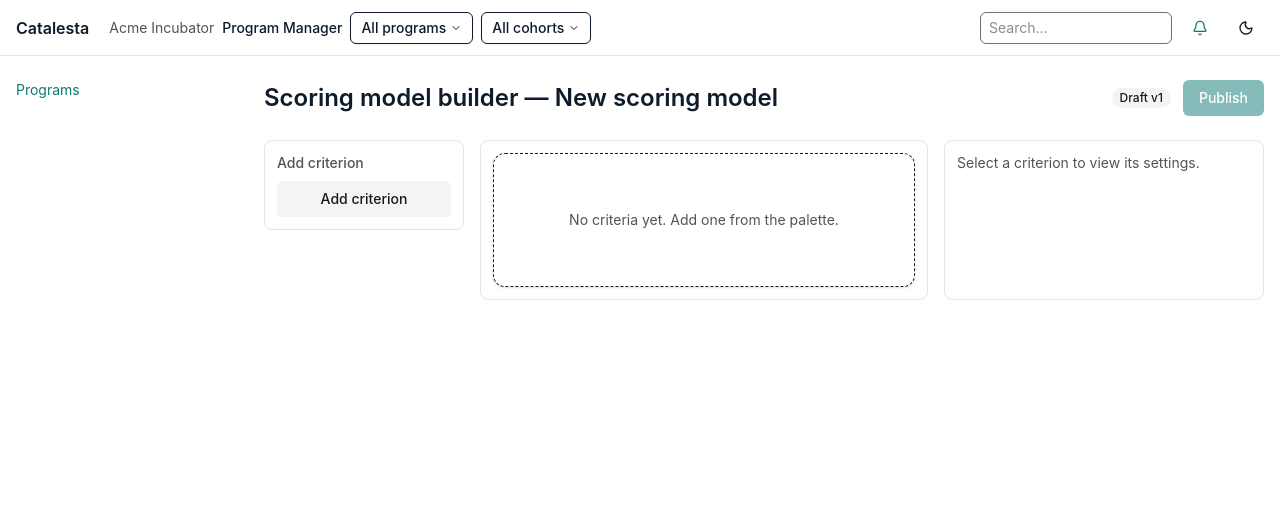
Test: removing a middle descriptor keeps remaining values correct (stable keys)
expect the element showing "No criteria yet. Add one from the palette." is shown: met, box [480,140,928,300]
Click the button "Add criterion": (364, 199) [277,181,451,217]
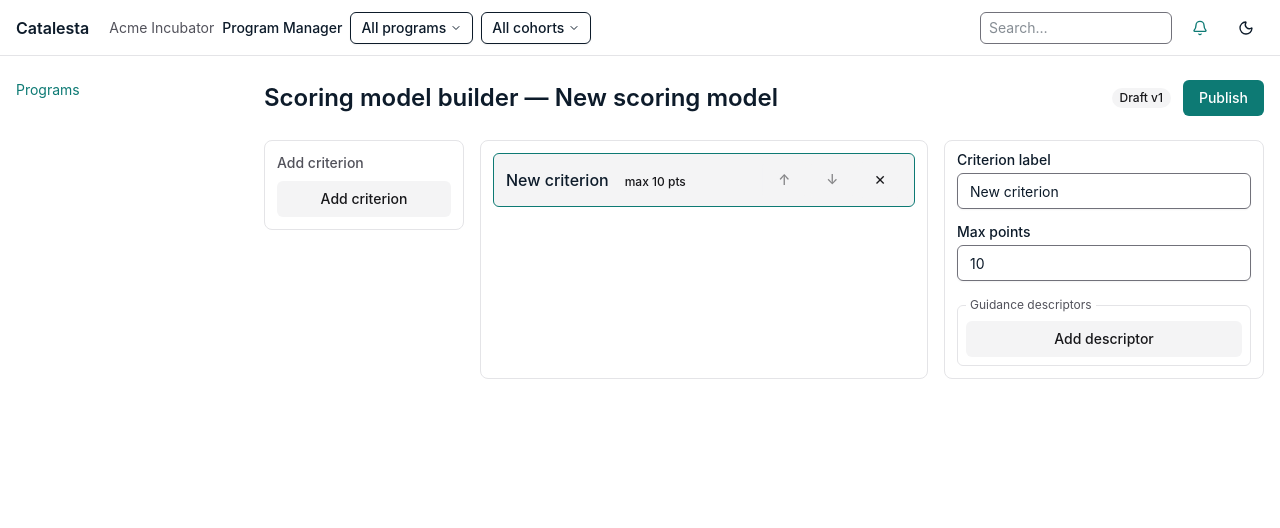
Add three descriptors
Click the button "Add descriptor": (1104, 339) [966,321,1242,357]
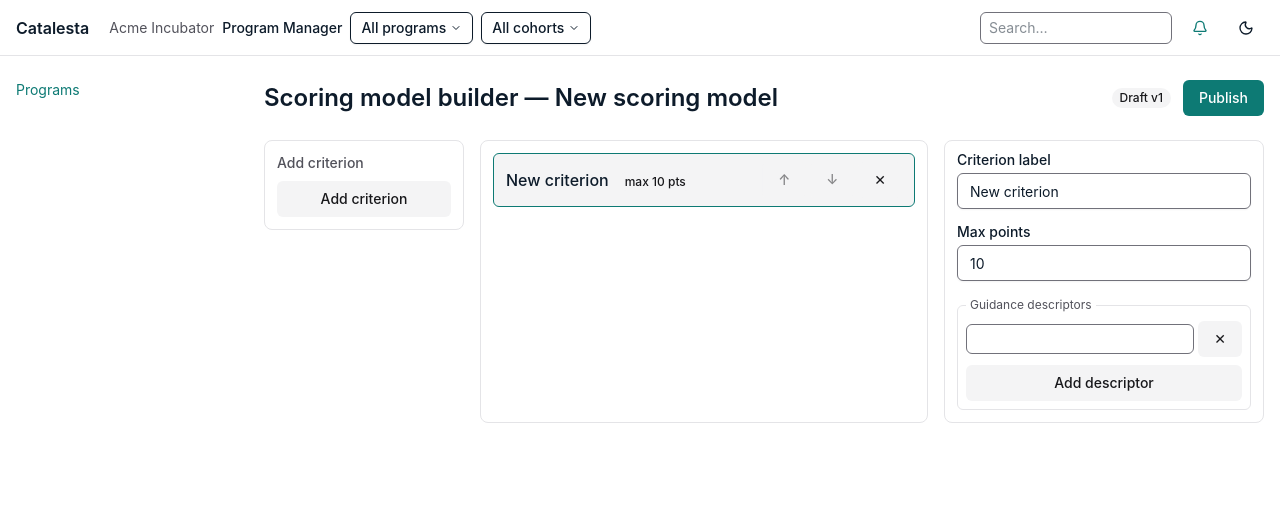
Click the button "Add descriptor": (1104, 383) [966,365,1242,401]
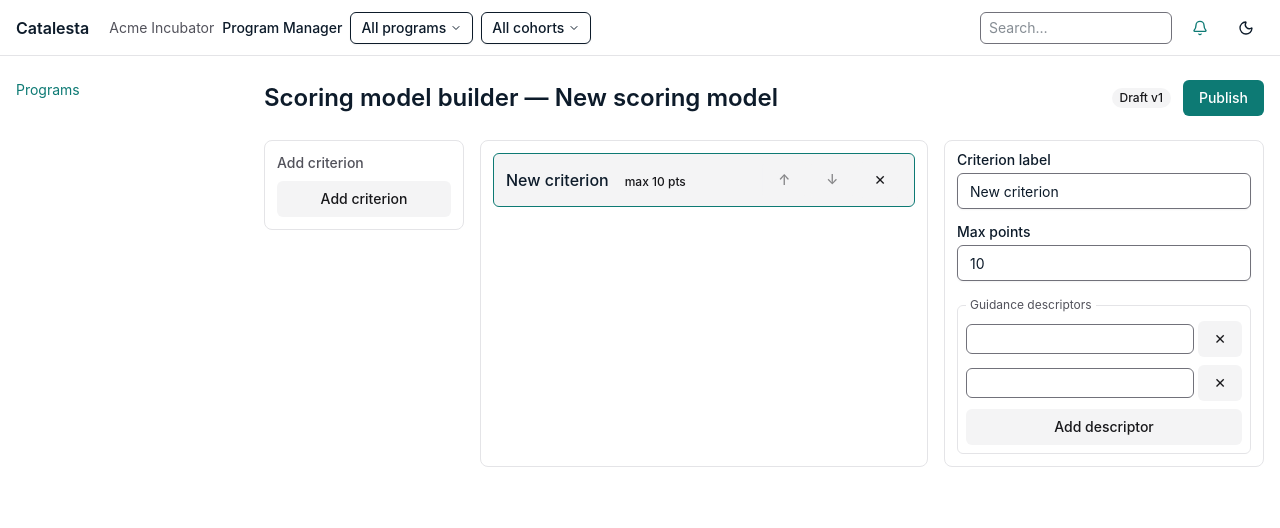
Click the button "Add descriptor": (1104, 427) [966,409,1242,445]
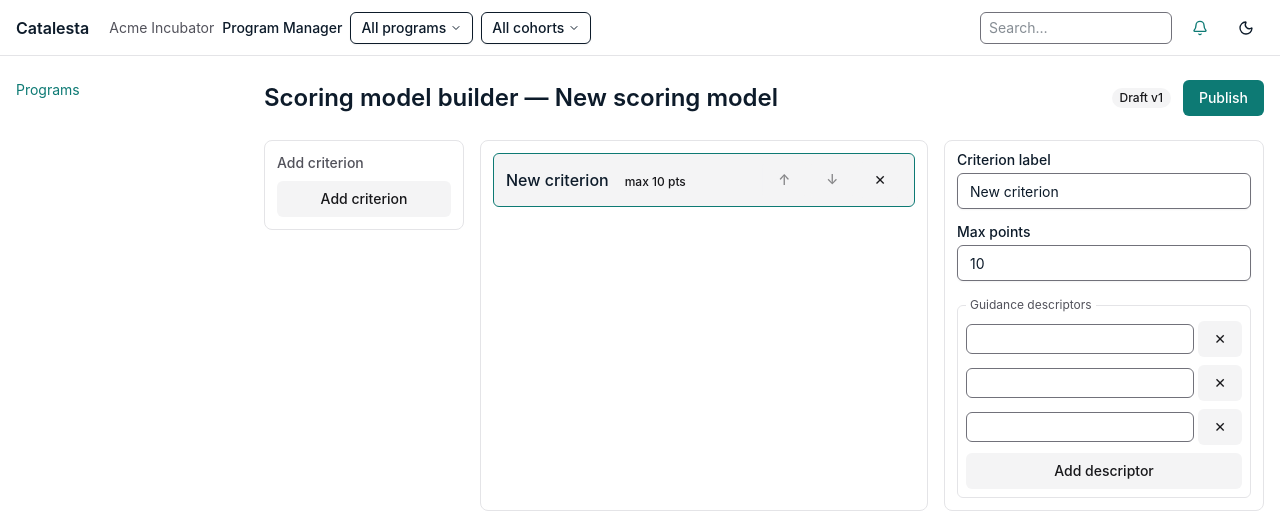
Type distinct values into each
In the field named "descriptor": (1080, 339) [966,324,1194,354], type "alpha"
In the field named "descriptor": (1080, 383) [966,368,1194,398], type "beta"
In the field named "descriptor": (1080, 427) [966,412,1194,442], type "gamma"
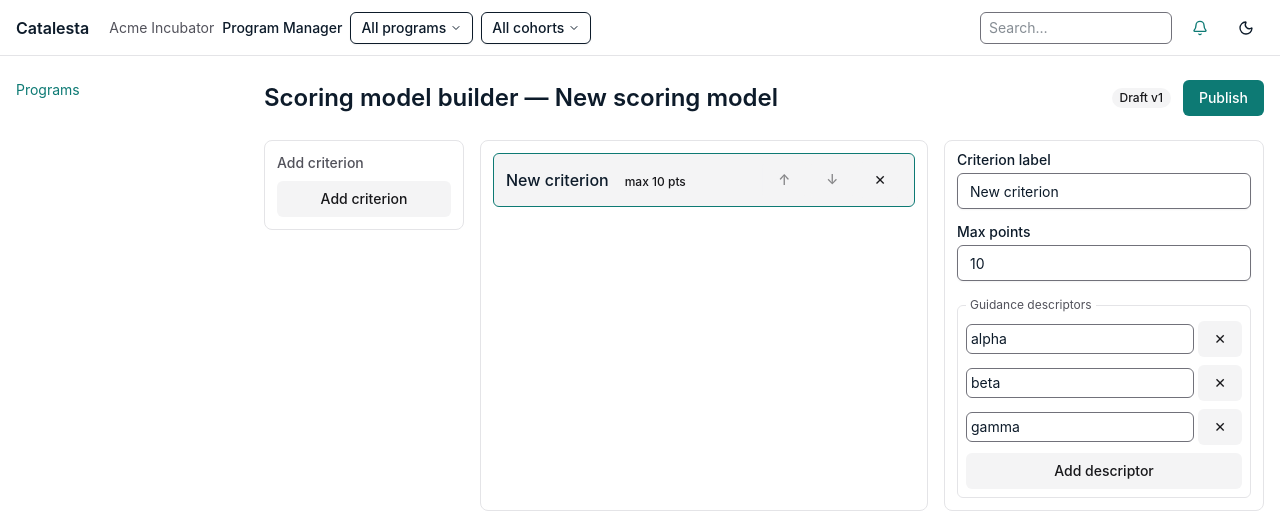
Remove the middle descriptor
Click the button named "remove descriptor": (1220, 383) [1198,365,1242,401]
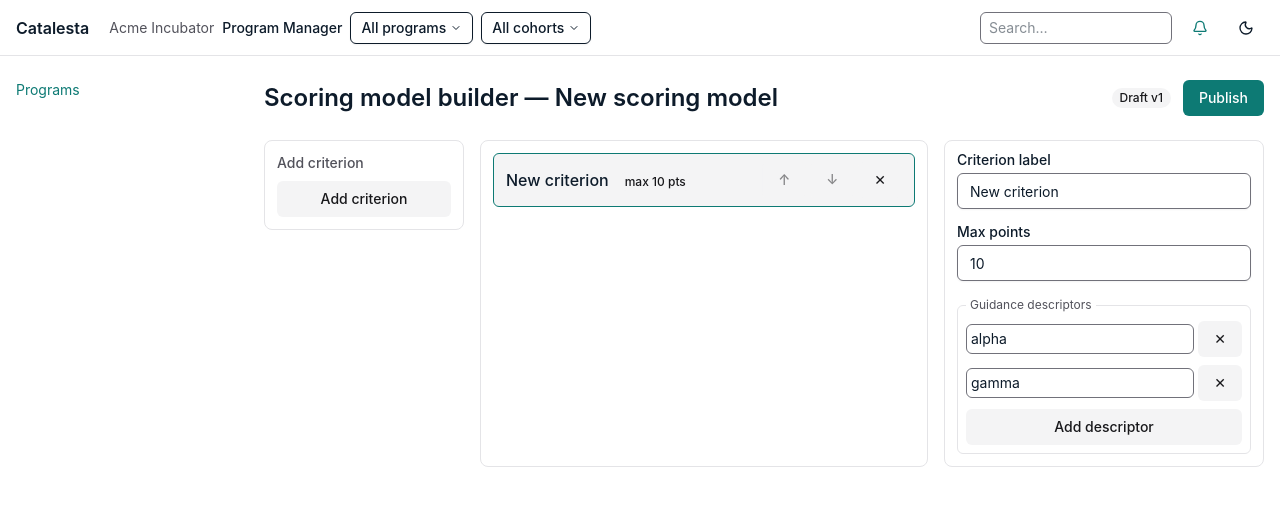
expect the number of fields named "descriptor" is 2: met, box [966,324,1194,354]; [966,368,1194,398]
